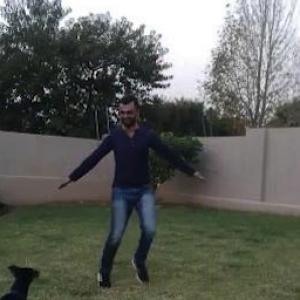land: (53, 72, 224, 298)
